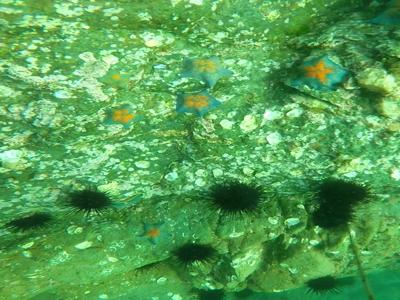urchin: (210, 179, 261, 212), (311, 198, 353, 228), (319, 178, 367, 204), (67, 189, 114, 213), (177, 244, 211, 259), (308, 274, 339, 290), (11, 214, 52, 226)
